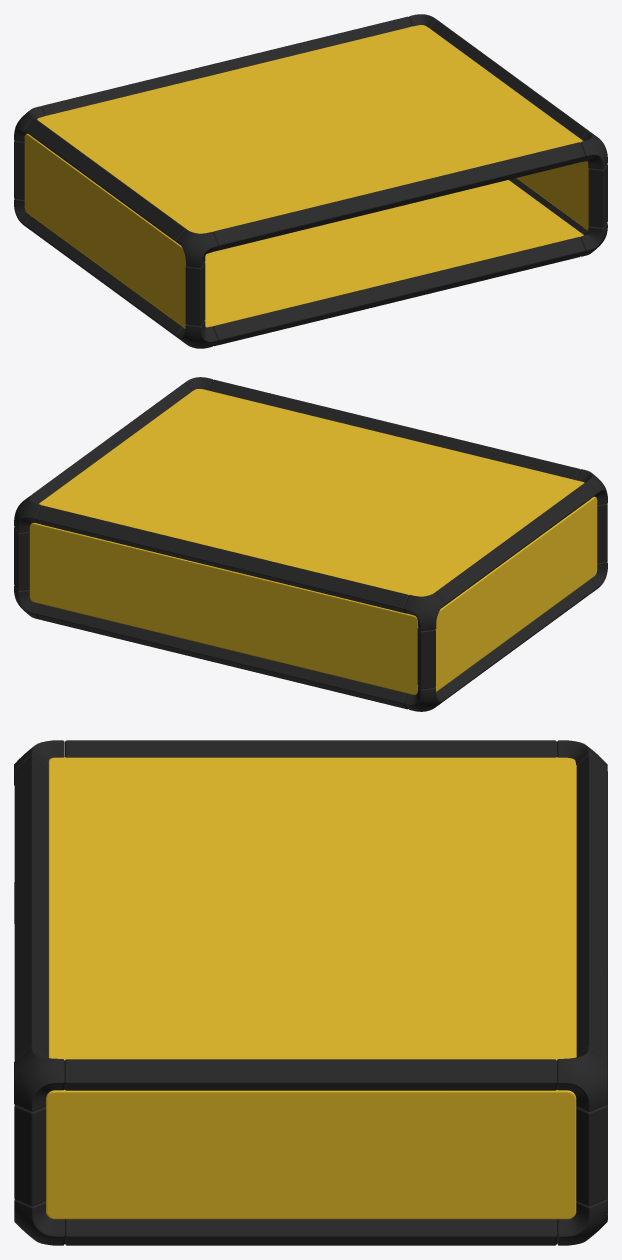
3 renders of one model, top to bottom at view 1: azimuth 30°, elevation 25°; view 2: azimuth 150°, elevation 25°; view 3: azimuth 270°, elevation 25°, orthographic. The views are drawn at different scales.
Parts seen in each view (by area): view 1: 523x374x79; view 2: 523x374x79; view 3: 523x374x79.
Boxes of the visible parts, x1,y1,x2,y2 form: 523x374x79: (14, 14, 607, 348); 523x374x79: (14, 377, 607, 711); 523x374x79: (14, 740, 607, 1245).
Size of the model in its own units: 0.6007 by 0.1566 by 0.4513.
